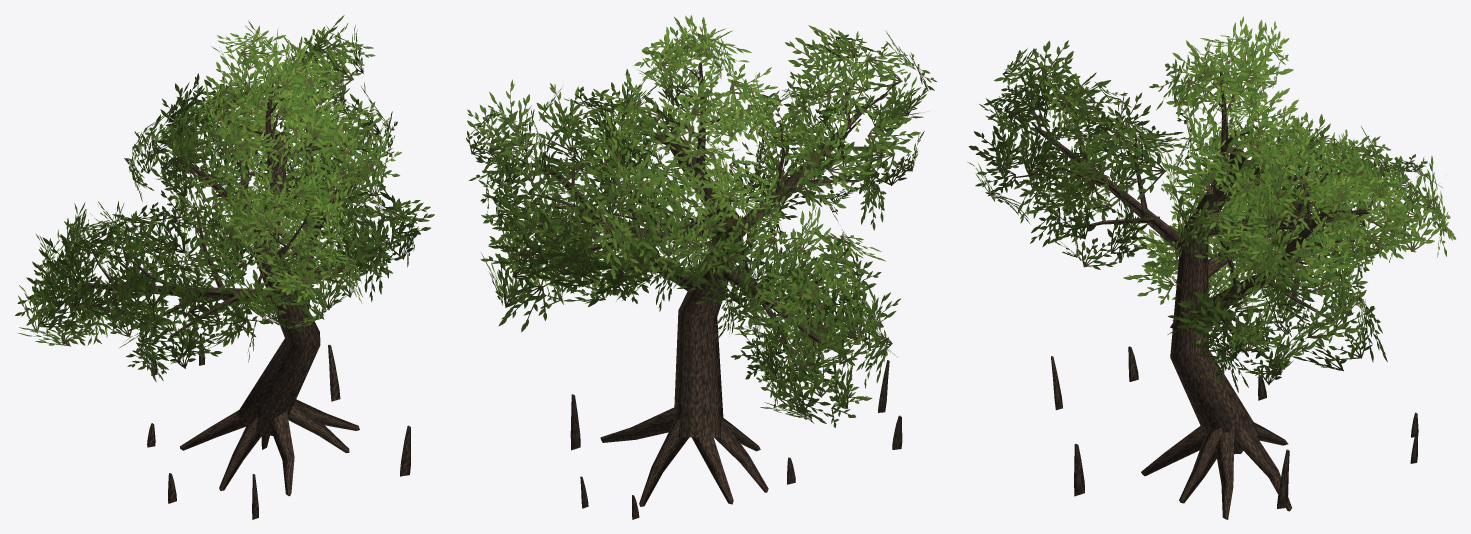
Rendered from Oak_07.lod2.glb.
3 views of the same model, side by side, from view 1: azimuth 30°, elevation 25°; view 2: azimuth 150°, elevation 25°; view 3: azimuth 270°, elevation 25° (orthographic). The views are drawn at different scales.
Visible parts, largest first — view 1: Leaves, Trunk; view 2: Leaves, Trunk; view 3: Leaves, Trunk.
Part boxes in pixels (x1=…): Leaves: x1=15, y1=15, x2=434, y2=382; Trunk: x1=74, y1=69, x2=410, y2=519; Leaves: x1=466, y1=15, x2=936, y2=427; Trunk: x1=498, y1=63, x2=902, y2=519; Leaves: x1=967, y1=16, x2=1455, y2=392; Trunk: x1=1012, y1=71, x2=1418, y2=519.
Size of the model in its own units: 14.46 by 16.12 by 15.02.
2 materials, 2 textured.
